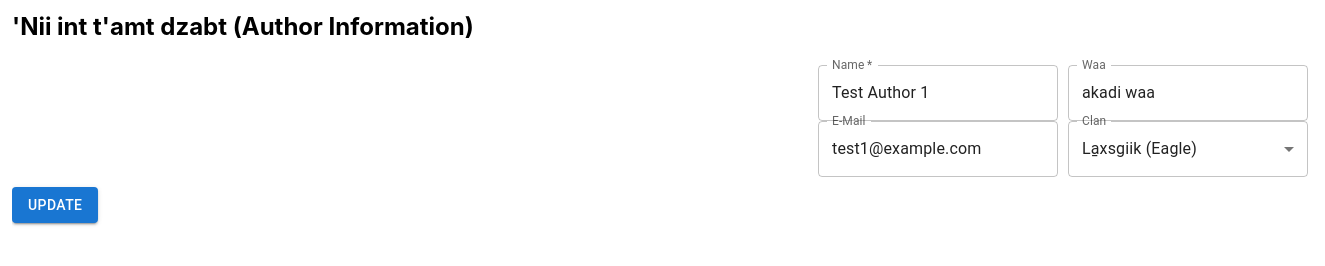
Scenario: AuthorForm › E-mail validation works
Replace the text in the field labelled "E-Mail" with "not_a_valid_email" at (938, 149), box [818,121,1058,177]
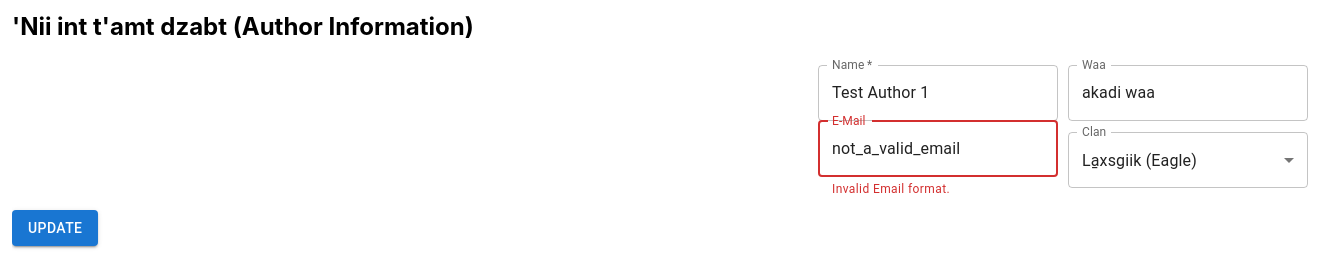
Result: the text "Invalid Email format." is shown at [832,182,950,196]
// test that, fixing it clears the error state
Replace the text in the field labelled "E-Mail" with "new-valid-email@example.com" at (938, 149), box [818,121,1058,177]
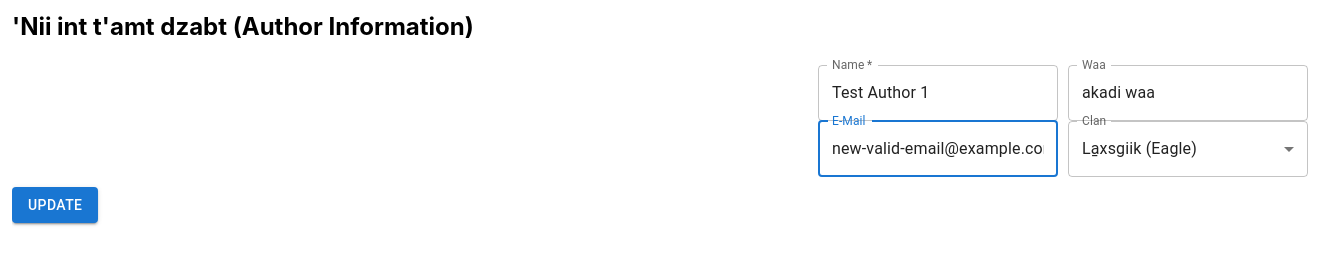
Result: the text "Invalid" is gone
